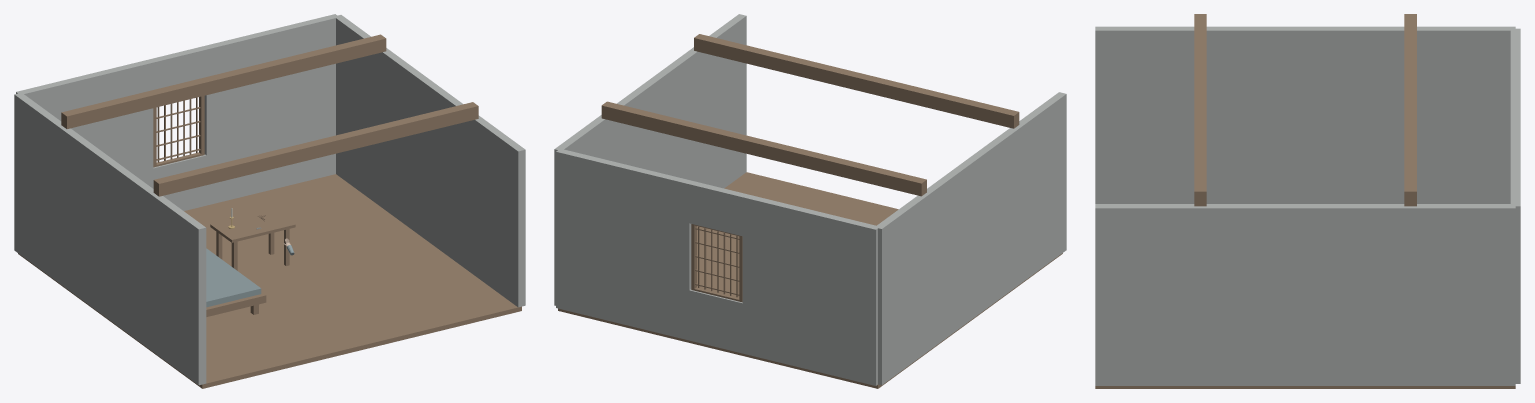
3 renders of one model, left to right at view 1: azimuth 30°, elevation 25°; view 2: azimuth 150°, elevation 25°; view 3: azimuth 270°, elevation 25°, orthographic. The views are drawn at different scales.
Visible parts, largest first — view 1: wall (×6), floor (×4), beam (×2), bedding, tabletop, platform; view 2: wall (×6), beam (×2), floor (×3); view 3: wall (×4), beam (×2), floor (×2).
Part boxes in pixels (<box>): wall (×6): <box>14,14,525,385</box>; floor (×4): <box>18,174,521,388</box>; beam (×2): <box>61,34,478,196</box>; bedding: <box>206,248,261,307</box>; tabletop: <box>210,209,295,242</box>; platform: <box>206,292,266,316</box>; wall (×6): <box>554,14,1066,385</box>; beam (×2): <box>601,34,1019,196</box>; floor (×3): <box>558,172,970,388</box>; wall (×4): <box>1095,26,1520,385</box>; beam (×2): <box>1194,14,1416,206</box>; floor (×2): <box>1095,386,1515,388</box>.
Size of the model in its own units: 6.14 by 3.11 by 6.07.
